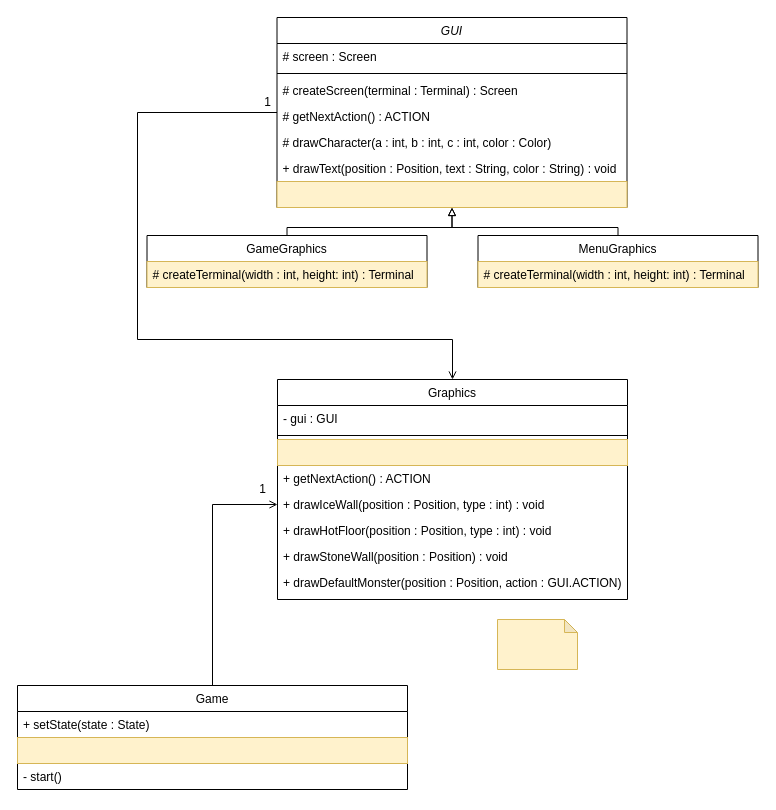
Some shapes in this 776 by 810 pixel diagram are drawn without their labels. Here are the shapes that lost their labels. From the top down, the centre of each, then its label:
At point (451, 194): "# createTerminal(width : int, height : int) : Terminal".
At point (452, 452): "+ setGui(gui :GUI)".
At point (537, 644): "Strategy + State Pattern".
At point (212, 750): "+ getGraphicsForGame(type : Type, width : int, height : int) : Graphics".
